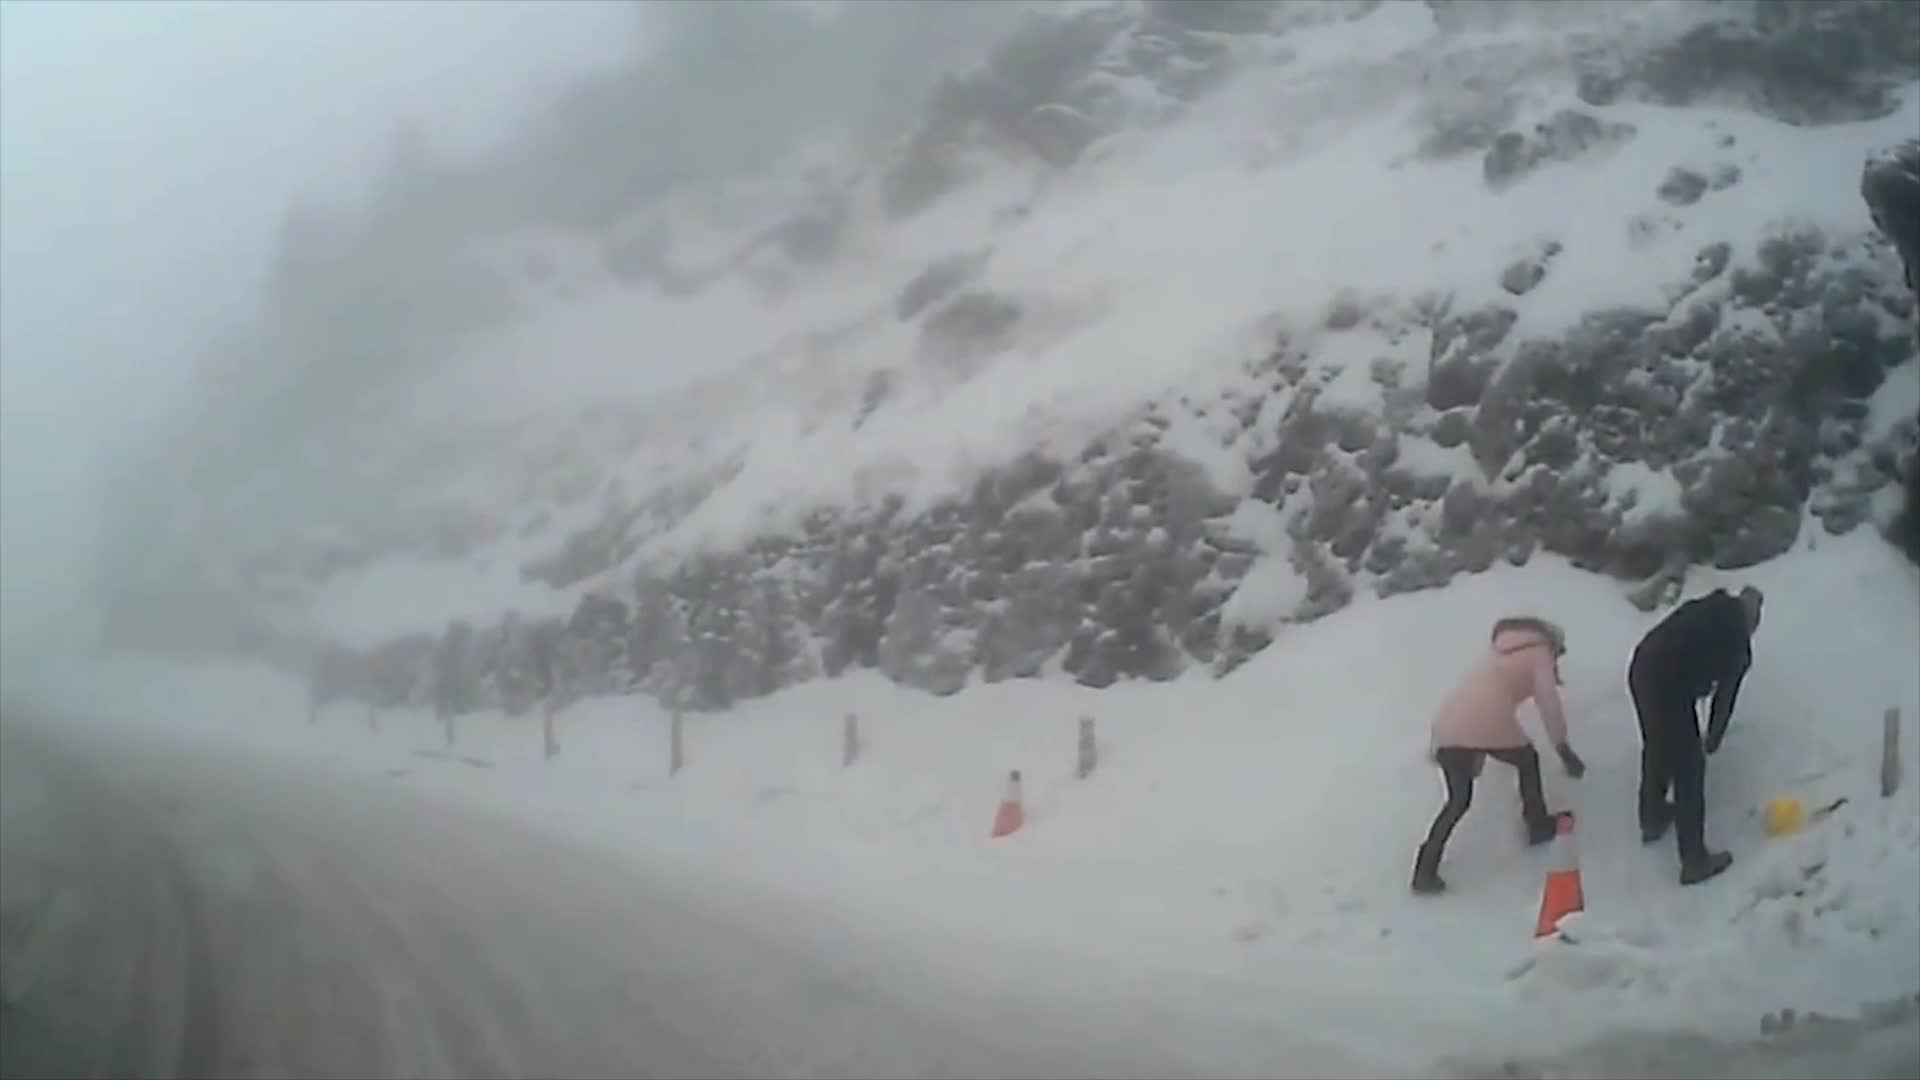pedestrian: (1411, 618, 1584, 893), (1629, 589, 1764, 891)
